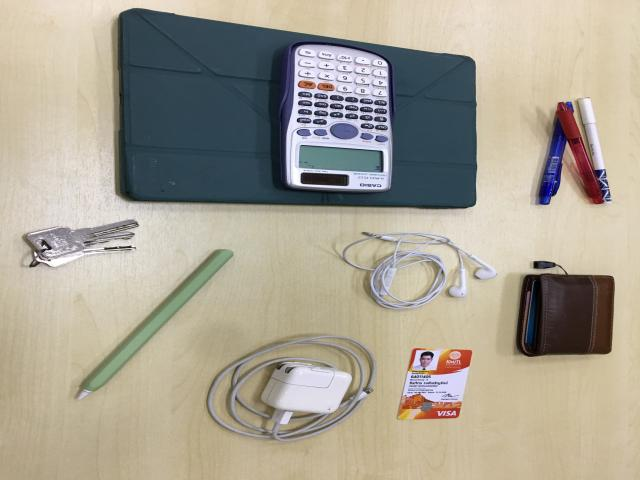Keys: (22, 221, 138, 269)
Pen: (538, 100, 613, 207)
Wallet: (516, 275, 616, 359)
wire: (204, 334, 377, 445), (369, 235, 500, 311)
